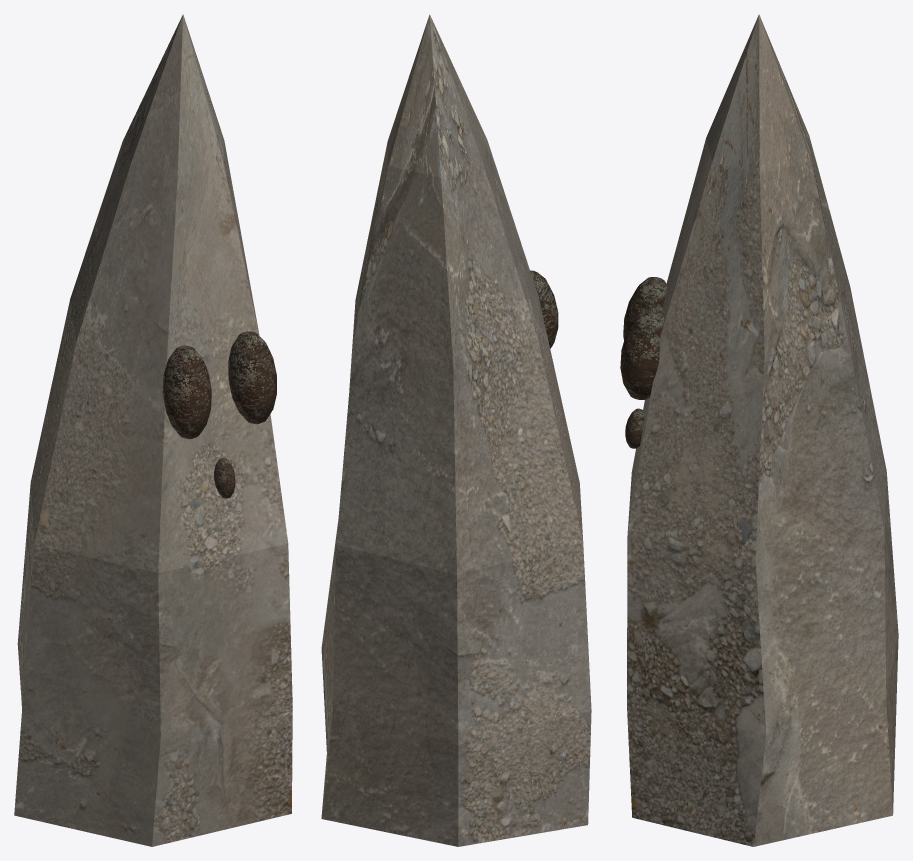
Rendered from bossPillar.fbx.
3 renders of one model, left to right at view 1: azimuth 30°, elevation 25°; view 2: azimuth 150°, elevation 25°; view 3: azimuth 270°, elevation 25°, orthographic.
Visible parts, largest first — view 1: Boss_Pillar, Boss_PillarEye_L, Boss_PillarEye_R, Boss_PillarEye_R.001; view 2: Boss_Pillar, Boss_PillarEye_L; view 3: Boss_Pillar, Boss_PillarEye_R, Boss_PillarEye_L, Boss_PillarEye_R.001.
Part boxes in pixels (left/top/right/bottom): Boss_Pillar: left=14, top=14, right=292, bottom=846; Boss_PillarEye_L: left=162, top=345, right=211, bottom=439; Boss_PillarEye_R: left=228, top=331, right=276, bottom=424; Boss_PillarEye_R.001: left=214, top=458, right=235, bottom=498; Boss_Pillar: left=321, top=14, right=591, bottom=846; Boss_PillarEye_L: left=530, top=270, right=558, bottom=348; Boss_Pillar: left=627, top=14, right=898, bottom=846; Boss_PillarEye_R: left=620, top=308, right=664, bottom=399; Boss_PillarEye_L: left=623, top=277, right=667, bottom=340; Boss_PillarEye_R.001: left=625, top=408, right=644, bottom=448.
Bounding box in the file's own units: 103 × 280 × 90.46.
Materials: 3 (3 with a texture image).
